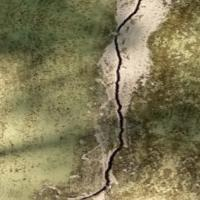crack: (75, 0, 151, 199)
